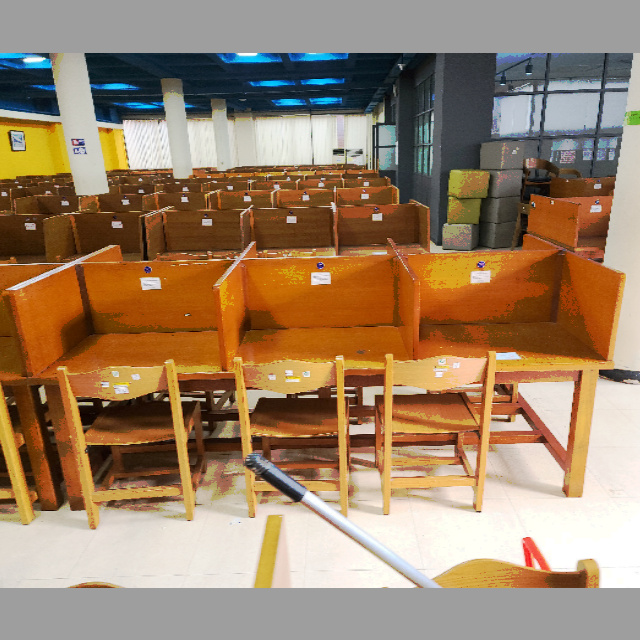empty: (420, 244, 614, 448), (226, 259, 416, 444), (19, 261, 219, 436)
